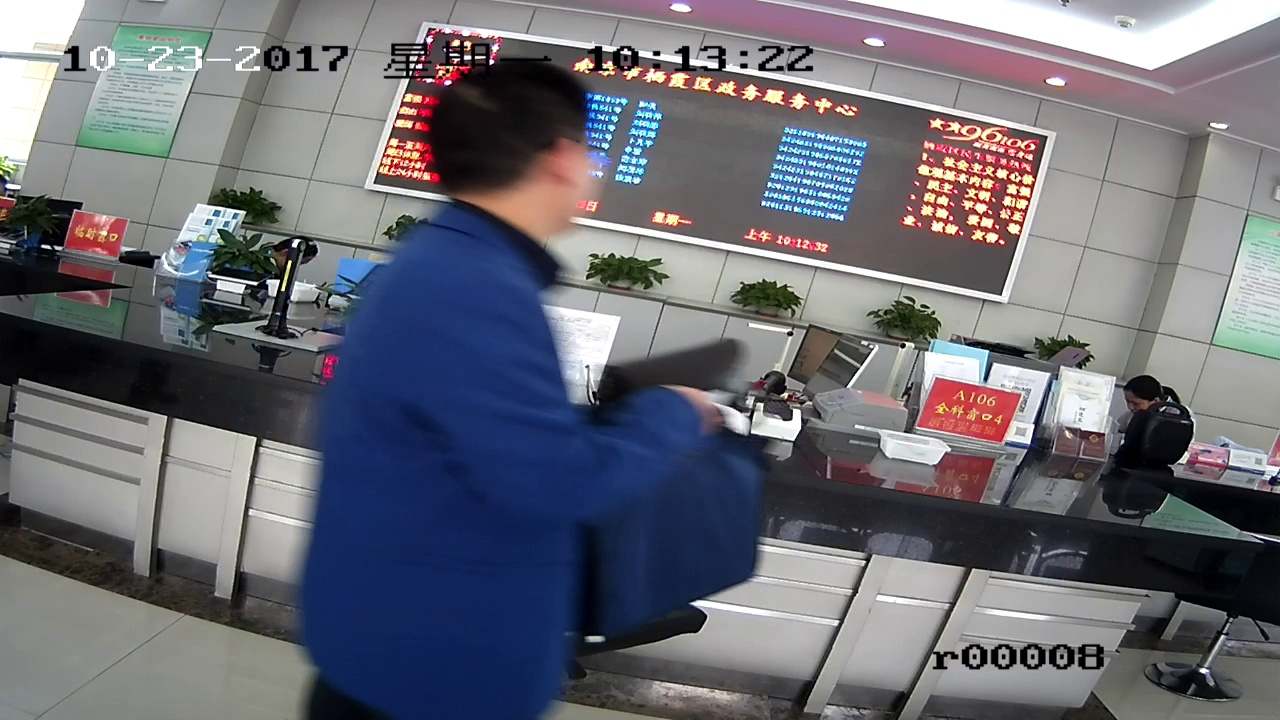billboard: (98, 32, 177, 154)
monitor: (400, 39, 992, 272)
person: (355, 75, 728, 663), (1128, 372, 1190, 439)
pot: (589, 252, 672, 306), (216, 173, 293, 225), (887, 296, 948, 345), (740, 270, 801, 314)
